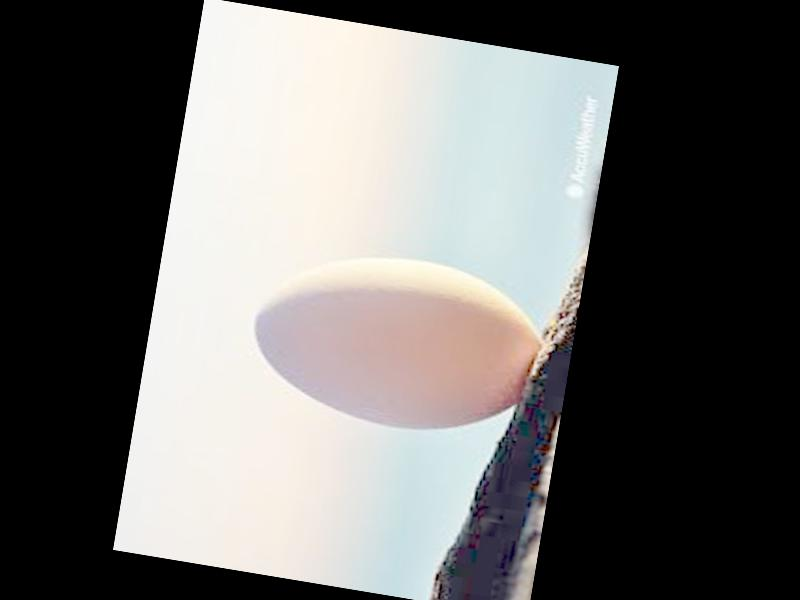Eggs: (239, 234, 548, 448)
